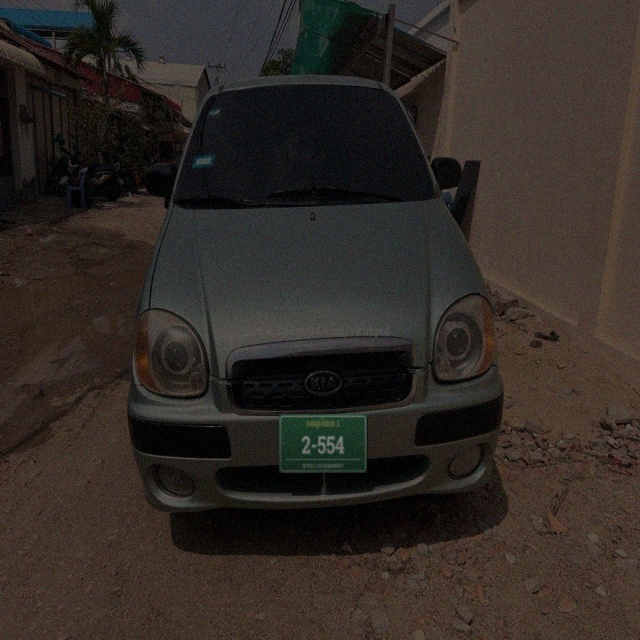Plate Number: (279, 414, 368, 474)
